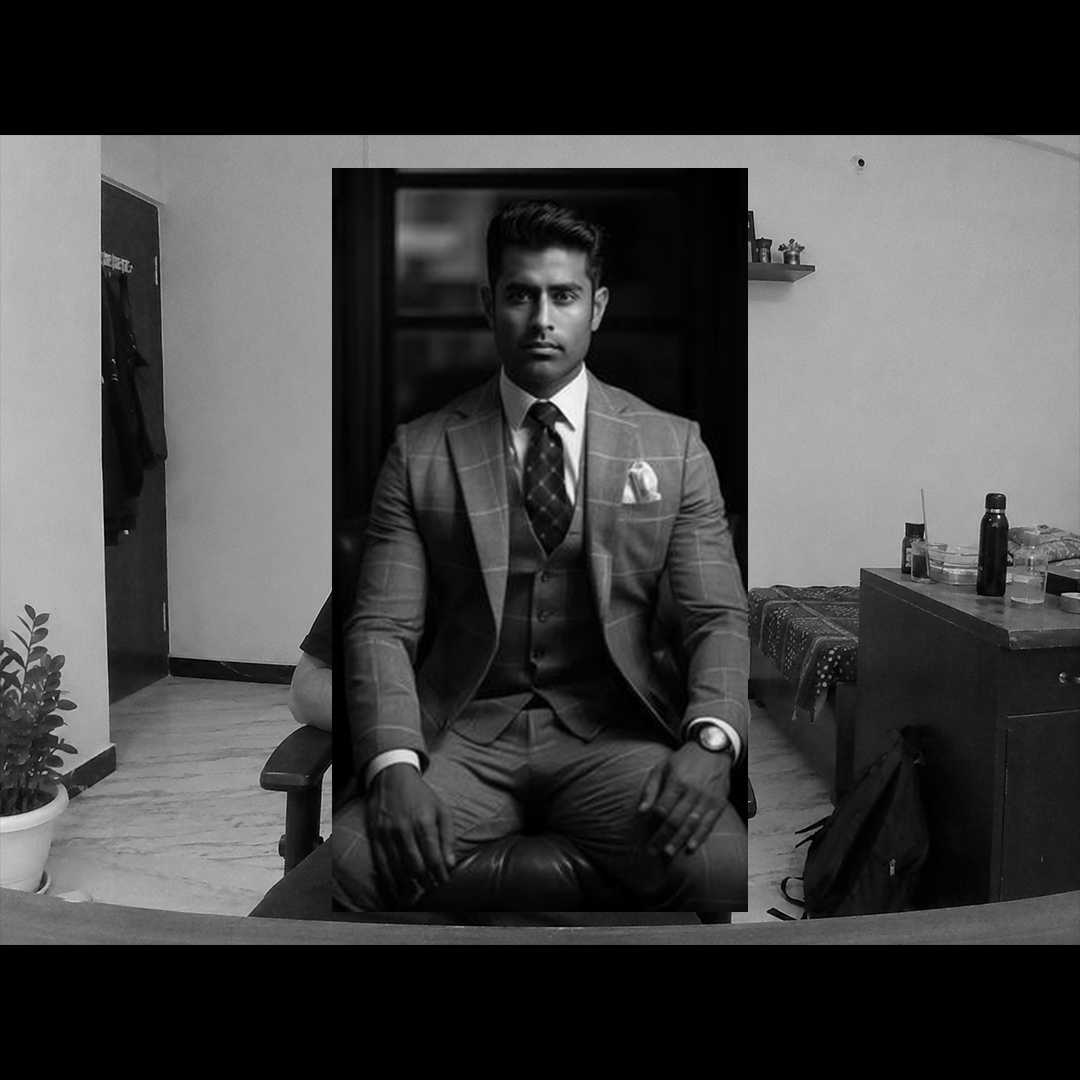Focused: (348, 222, 767, 726)
